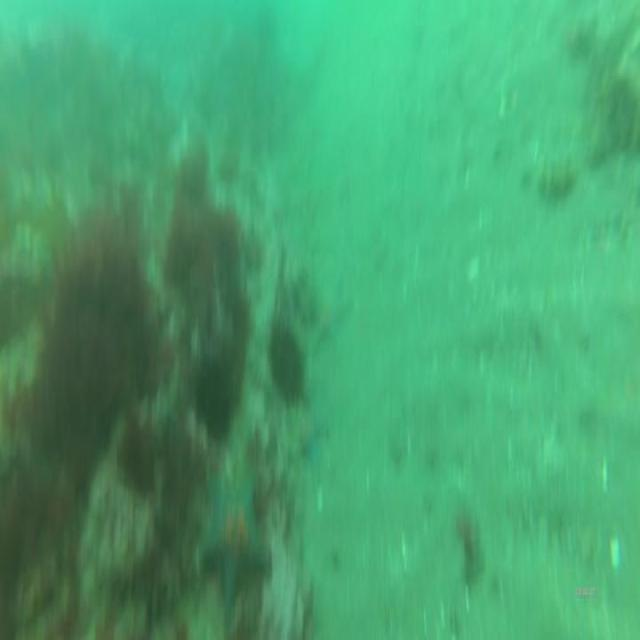echinus: (184, 343, 241, 453), (267, 316, 313, 417)
holothurian: (537, 153, 579, 201)
starfish: (198, 474, 276, 604), (305, 273, 356, 362), (294, 404, 332, 471)
